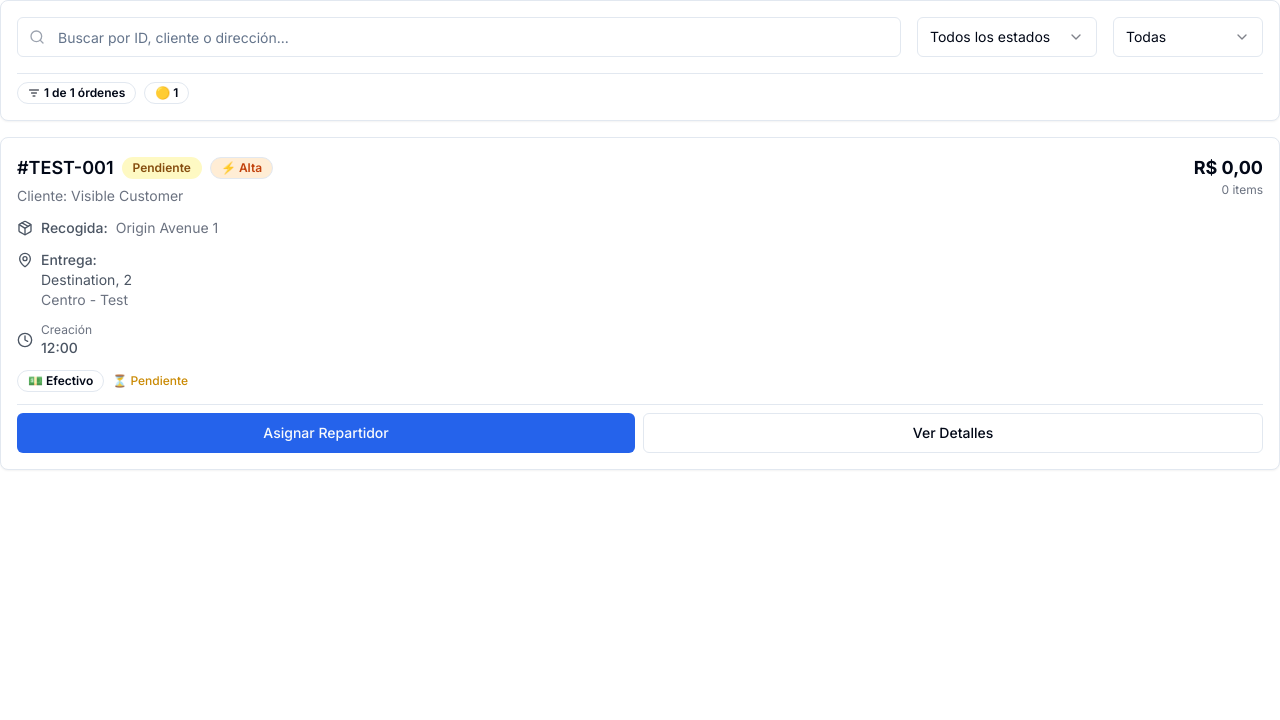
Test: keeps the same order and form visible when the server refuses, then accepts a deliberate retry
Click the button "Asignar Repartidor": (326, 433) top-left (17, 413), bottom-right (635, 453)
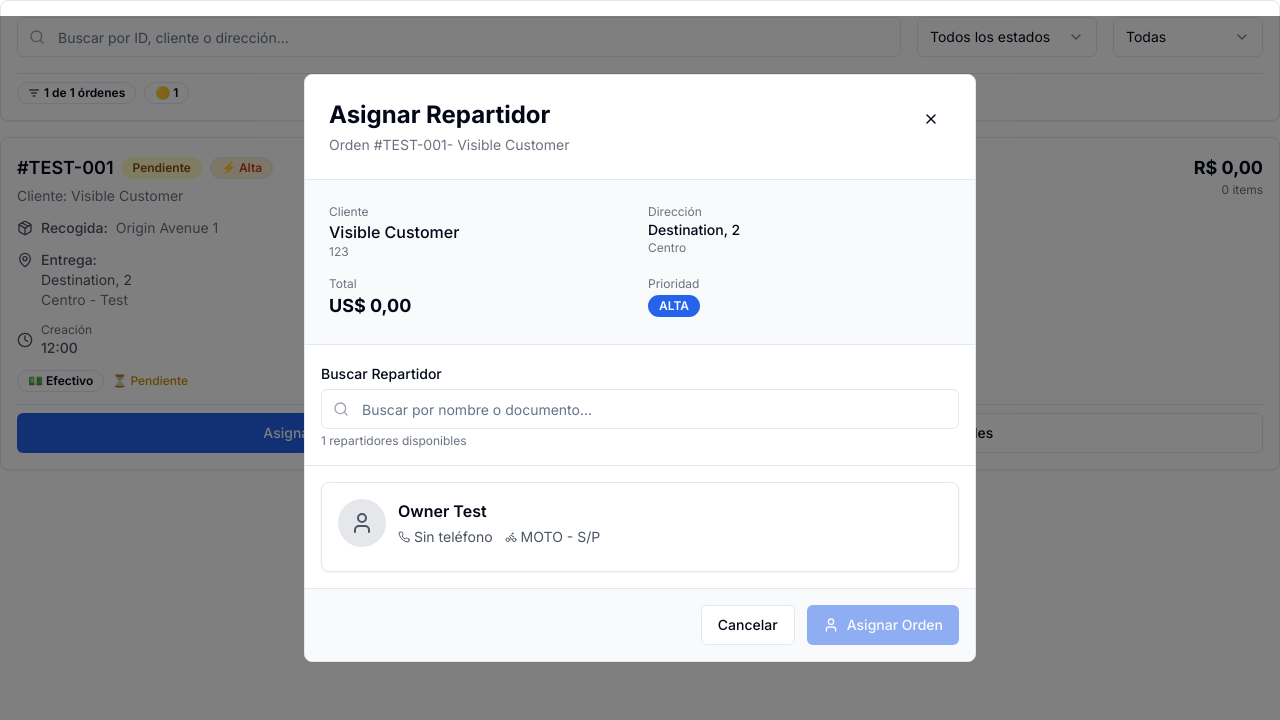
Click the button "Owner Test Sin teléfono MOTO - S/P": (362, 523) top-left (321, 482), bottom-right (959, 572)
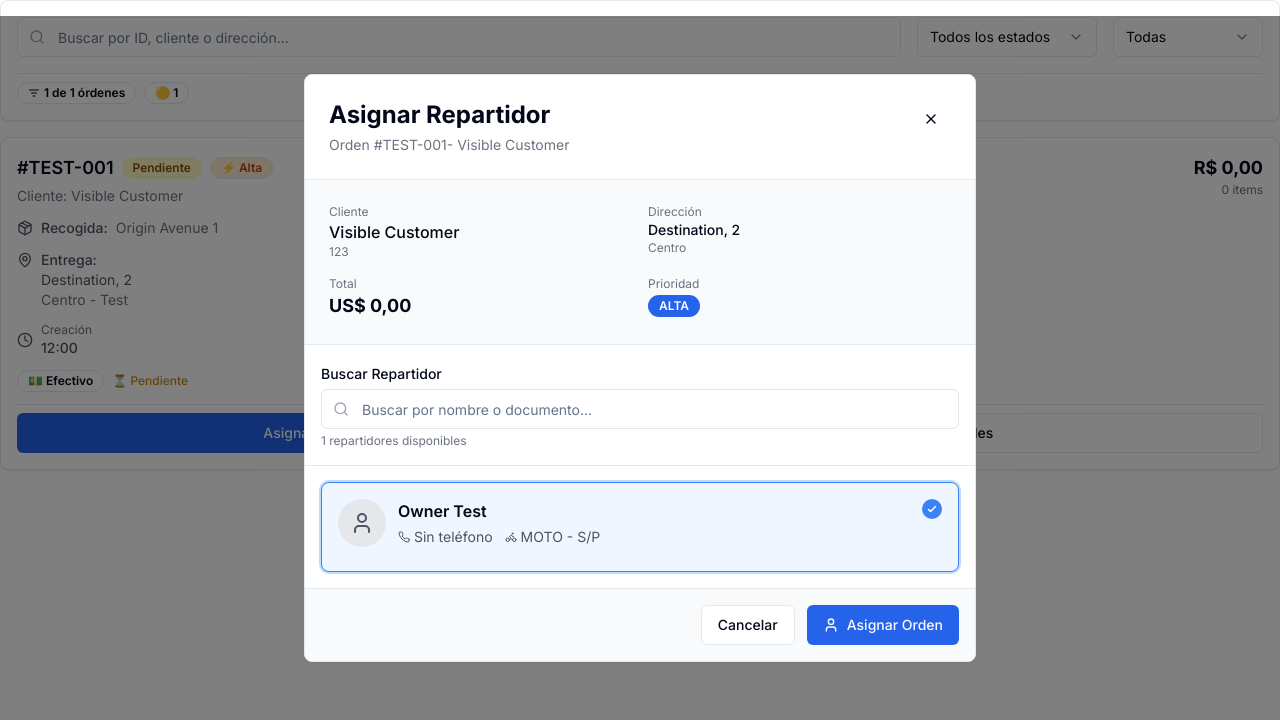
Click the button "Asignar Orden": (883, 625) top-left (807, 605), bottom-right (959, 645)
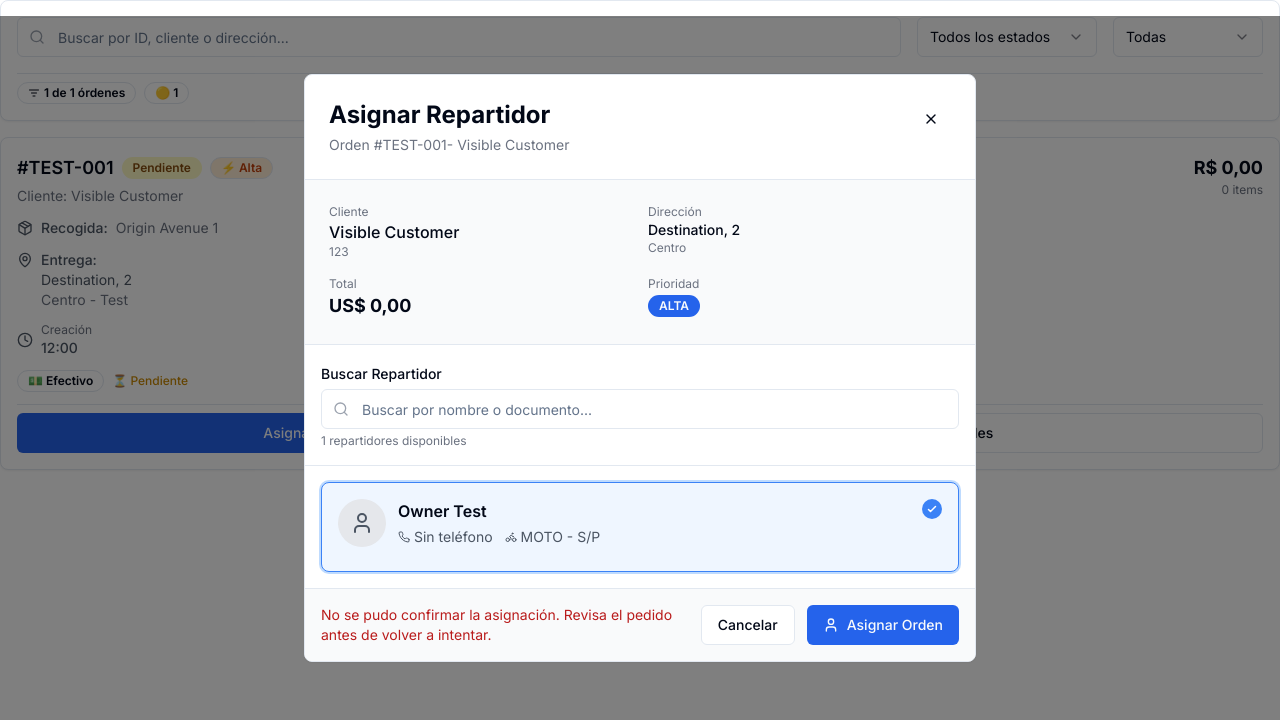
Now the button named "Cerrar asignación" is shown, box top-left (911, 99), bottom-right (951, 139)
Now the message is shown, box top-left (321, 605), bottom-right (689, 645)
Click the button "Asignar Orden": (883, 625) top-left (807, 605), bottom-right (959, 645)
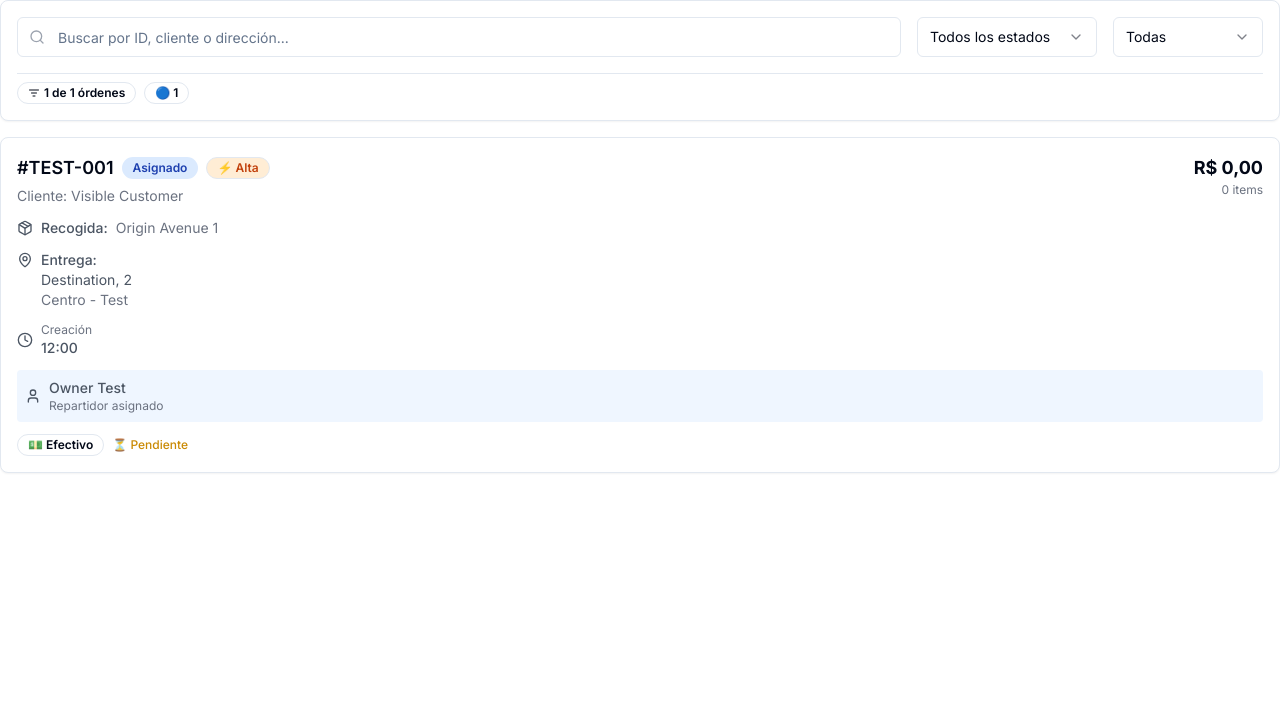
Now the message is gone
